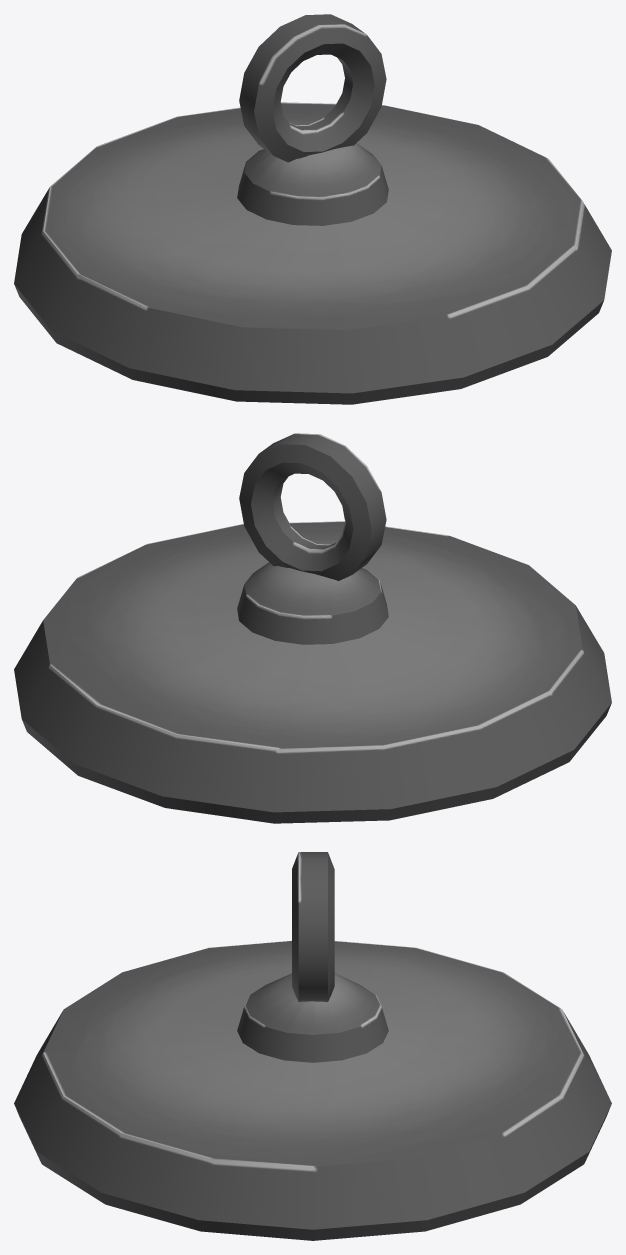
File: hook.fbx
3 views of the same model, one above another, from view 1: azimuth 30°, elevation 25°; view 2: azimuth 150°, elevation 25°; view 3: azimuth 270°, elevation 25° (orthographic).
Visible parts, largest first — view 1: Cylinder; view 2: Cylinder; view 3: Cylinder.
Boxes of the visible parts, left/top/right/bottom form: Cylinder: left=14, top=14, right=611, bottom=404; Cylinder: left=14, top=433, right=611, bottom=823; Cylinder: left=14, top=852, right=611, bottom=1240.
Size of the model in its own units: 3.31 by 1.58 by 3.31.
